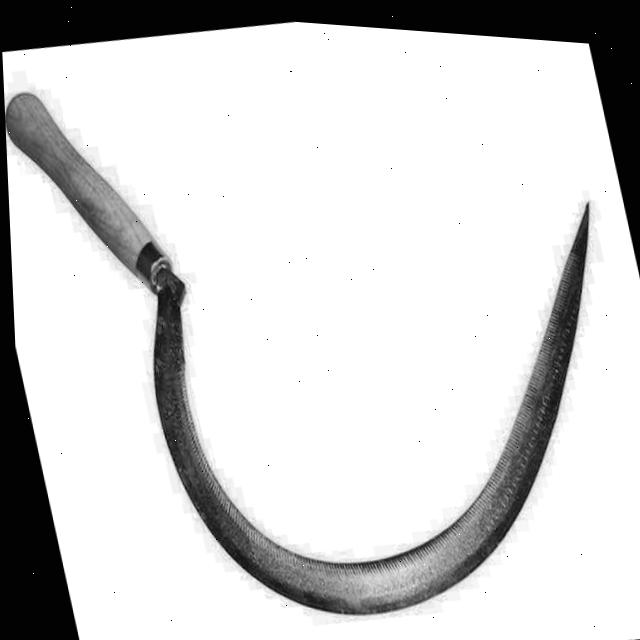celurit: (4, 84, 607, 625)
